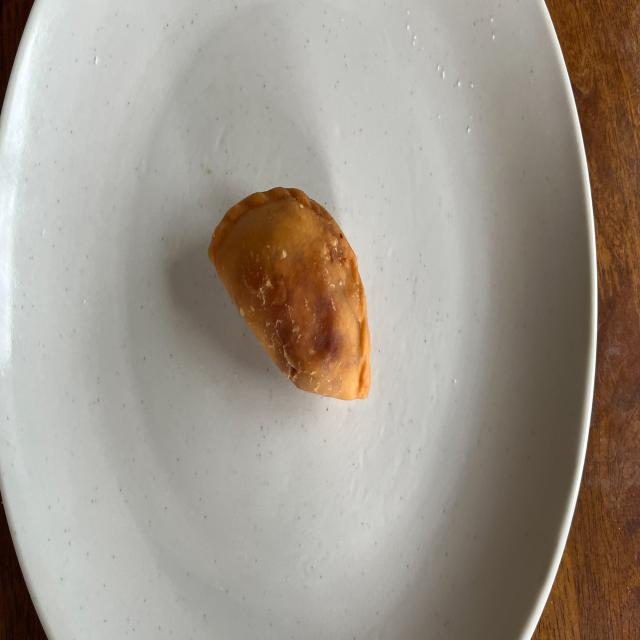karipap: (208, 187, 371, 400)
